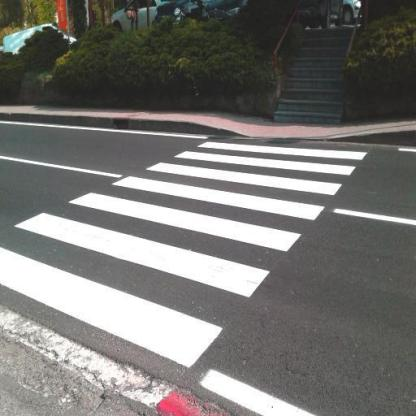crosswalk: (7, 191, 307, 302), (164, 137, 376, 179)
